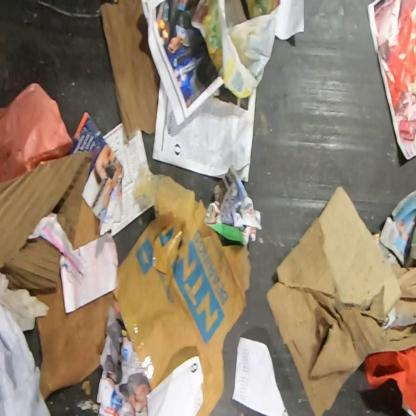cardboard: (265, 184, 416, 416), (117, 165, 250, 416), (0, 146, 100, 289), (31, 267, 115, 402), (100, 0, 161, 140)
soft_plastic: (192, 1, 280, 100), (0, 83, 73, 183)
